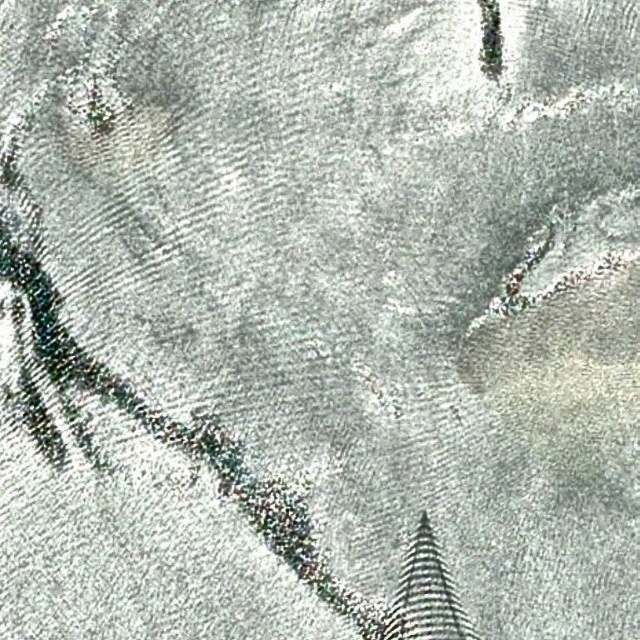wake: (391, 501, 461, 635)
